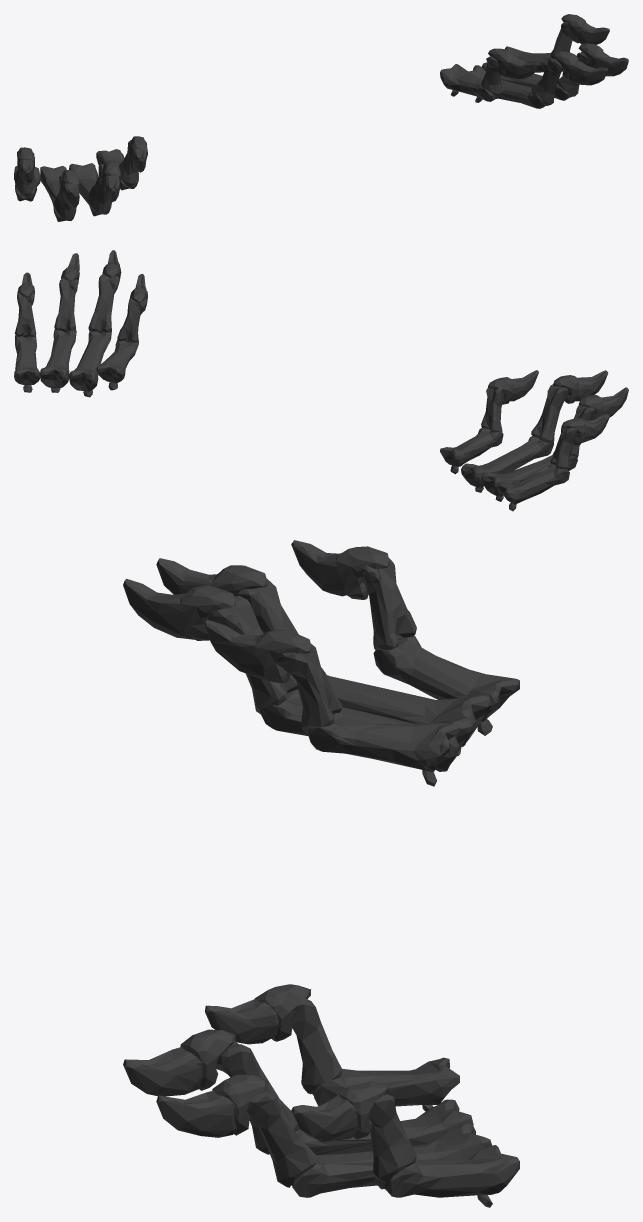
Rendered from b_HL_digits.glb.
The picture shows the model from 3 angles, top to bottom: view 1: azimuth 30°, elevation 25°; view 2: azimuth 150°, elevation 25°; view 3: azimuth 270°, elevation 25°; orthographic projection. The views are drawn at different scales.
Visible parts, largest first — view 1: b_HL_digits; view 2: b_HL_digits; view 3: b_HL_digits.
Part boxes in pixels (left/top/right/bottom): b_HL_digits: left=14, top=14, right=628, bottom=221; b_HL_digits: left=14, top=250, right=628, bottom=511; b_HL_digits: left=123, top=540, right=519, bottom=1207.
Size of the model in its own units: 0.0732 by 0.00989 by 0.0215.
1 material, 1 textured.
